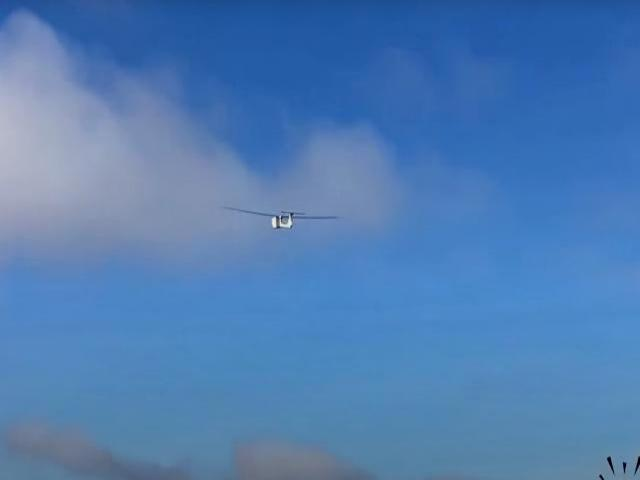iha: (224, 203, 342, 231)
